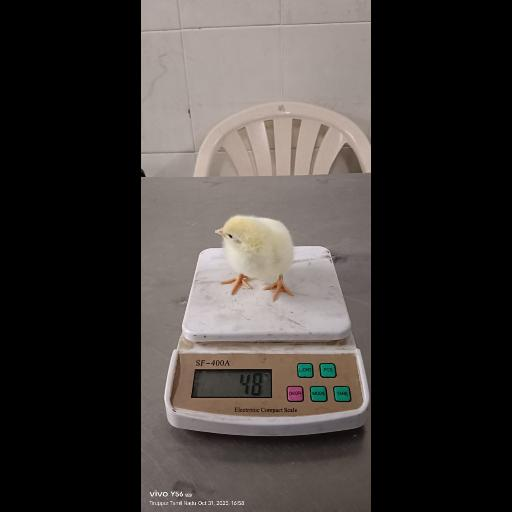chick: (214, 212, 296, 302)
